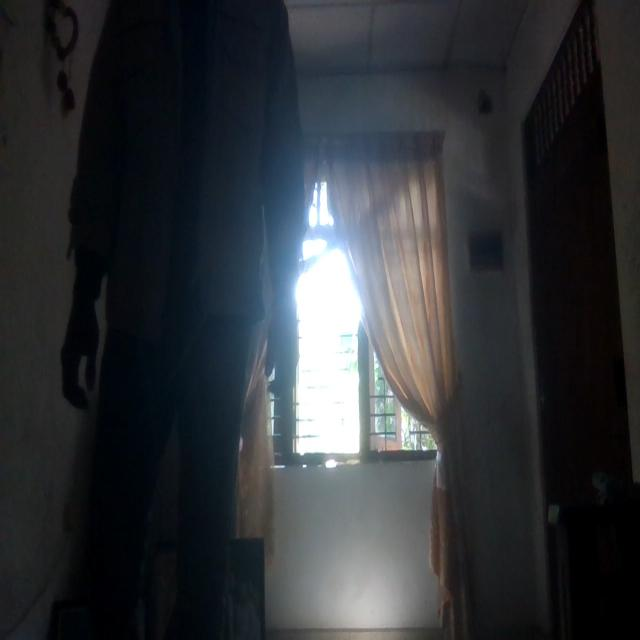Jacket_Wearer: (80, 2, 302, 350)
Person: (60, 0, 308, 640)
